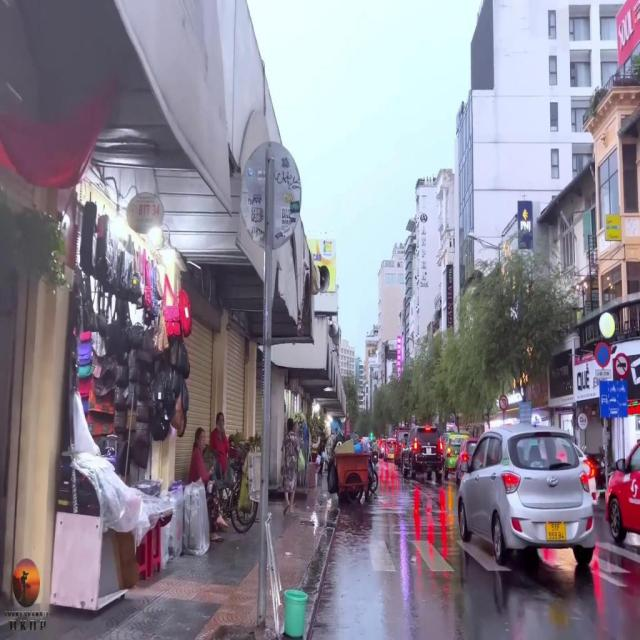cam_do_xe: (596, 340, 611, 367)
cam_o_to_re_trai: (499, 396, 508, 410)
cam_o_to_tai_trong_luong_qua_10t: (614, 352, 630, 378)
khac: (599, 380, 628, 417), (596, 370, 611, 378)
